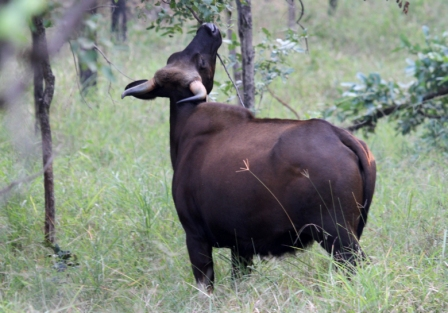buffalo: (123, 19, 377, 293)
